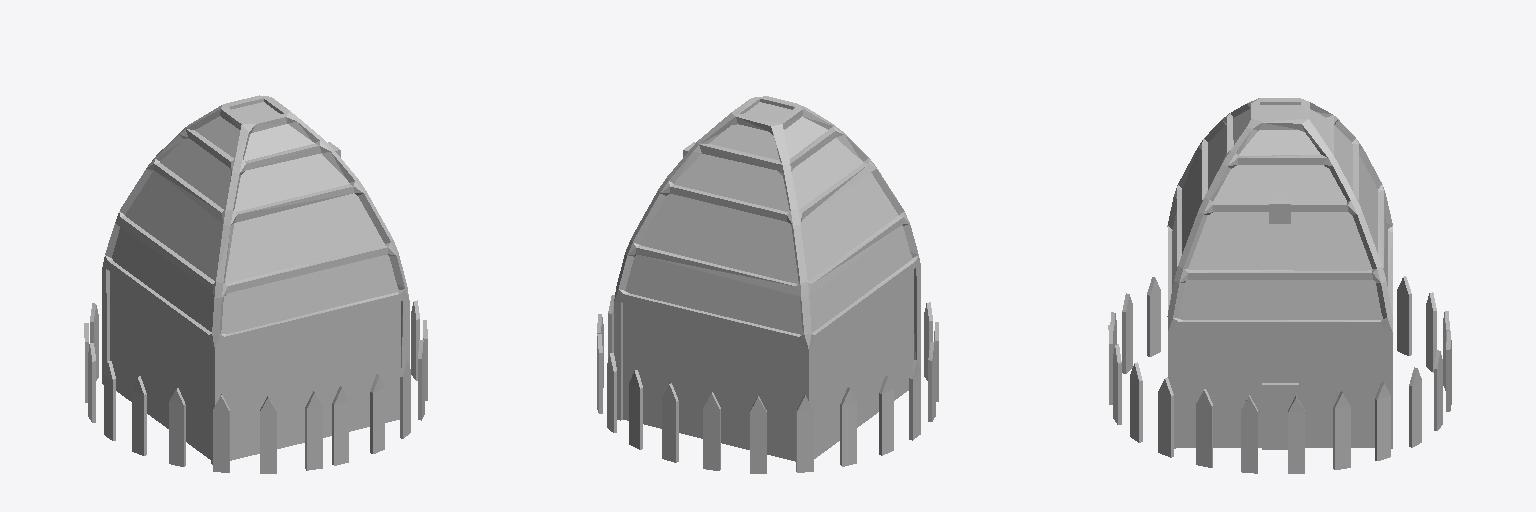
Rendered from House01.obj.
The picture shows the model from 3 angles: view 1: azimuth 30°, elevation 25°; view 2: azimuth 150°, elevation 25°; view 3: azimuth 270°, elevation 25°; orthographic projection.
Visible parts, largest first — view 1: House.001_Cube.018, Fence_Cube.001; view 2: House.001_Cube.018, Fence_Cube.001; view 3: House.001_Cube.018, Fence_Cube.001, DoorMesh_Plane.006.
Part boxes in pixels (left/top/right/bottom): House.001_Cube.018: left=102, top=95, right=409, bottom=464; Fence_Cube.001: left=84, top=300, right=427, bottom=473; House.001_Cube.018: left=614, top=96, right=920, bottom=461; Fence_Cube.001: left=597, top=295, right=938, bottom=473; House.001_Cube.018: left=1167, top=98, right=1392, bottom=448; Fence_Cube.001: left=1108, top=276, right=1451, bottom=473; DoorMesh_Plane.006: left=1262, top=383, right=1298, bottom=449.
Size of the model in its own units: 2.02 by 1.89 by 2.02.